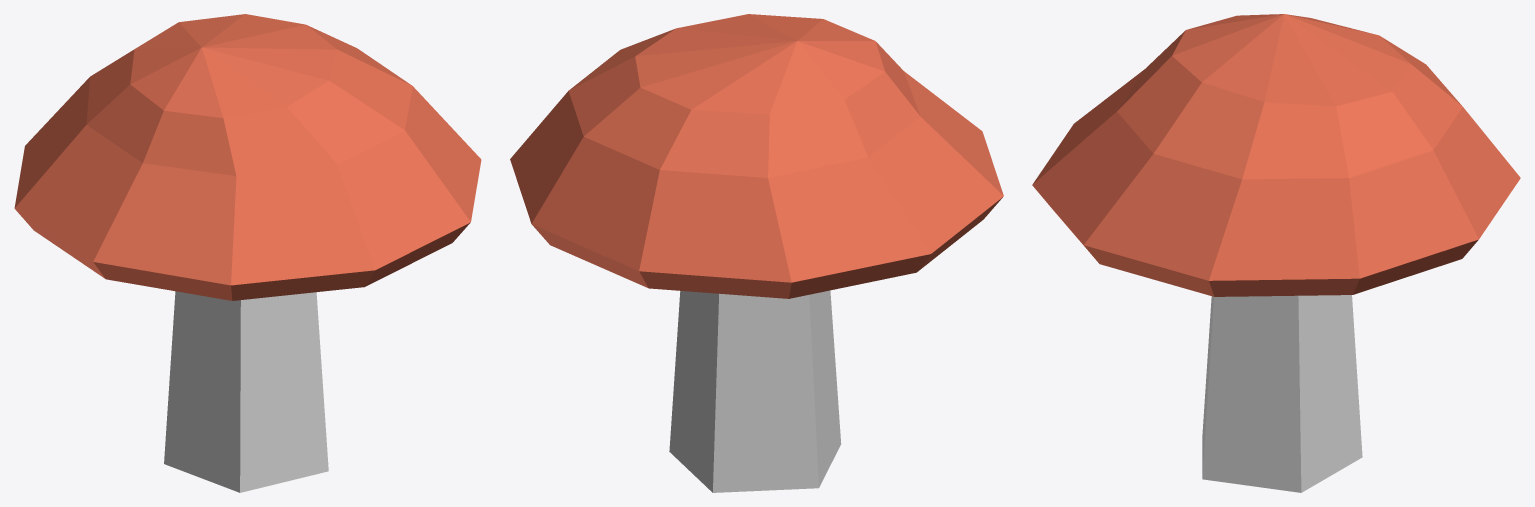
The model's file is Mushroom_1.fbx.
The picture shows the model from 3 angles, left to right: view 1: azimuth 30°, elevation 25°; view 2: azimuth 150°, elevation 25°; view 3: azimuth 270°, elevation 25°; orthographic projection. The views are drawn at different scales.
Visible parts, largest first — view 1: Mushroom_1; view 2: Mushroom_1; view 3: Mushroom_1.
Boxes of the visible parts, bbox=[...] form: Mushroom_1: bbox=[14, 14, 481, 492]; Mushroom_1: bbox=[510, 14, 1003, 492]; Mushroom_1: bbox=[1032, 14, 1520, 492].
Size of the model in its own units: 0.204 by 0.2023 by 0.2122.
